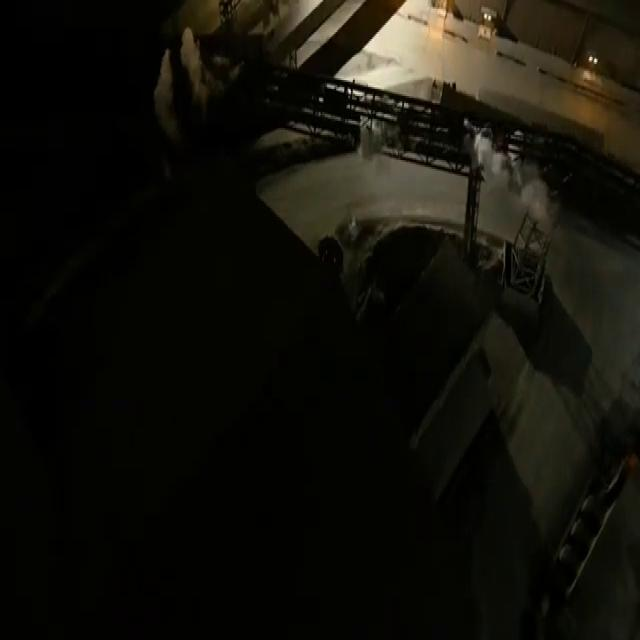smoke: (464, 119, 560, 242)
